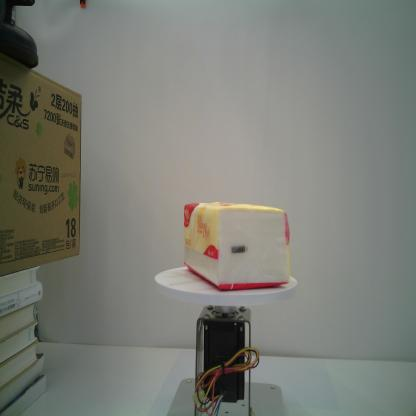Tissue: (182, 198, 292, 292)
